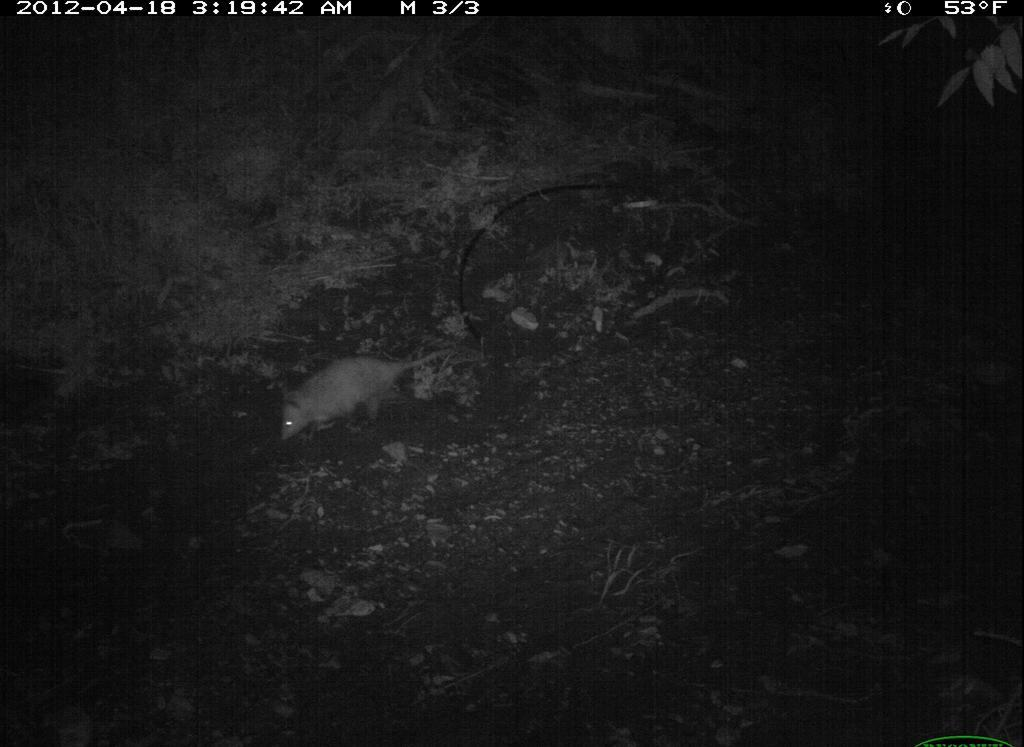opossum: (272, 333, 503, 451)
